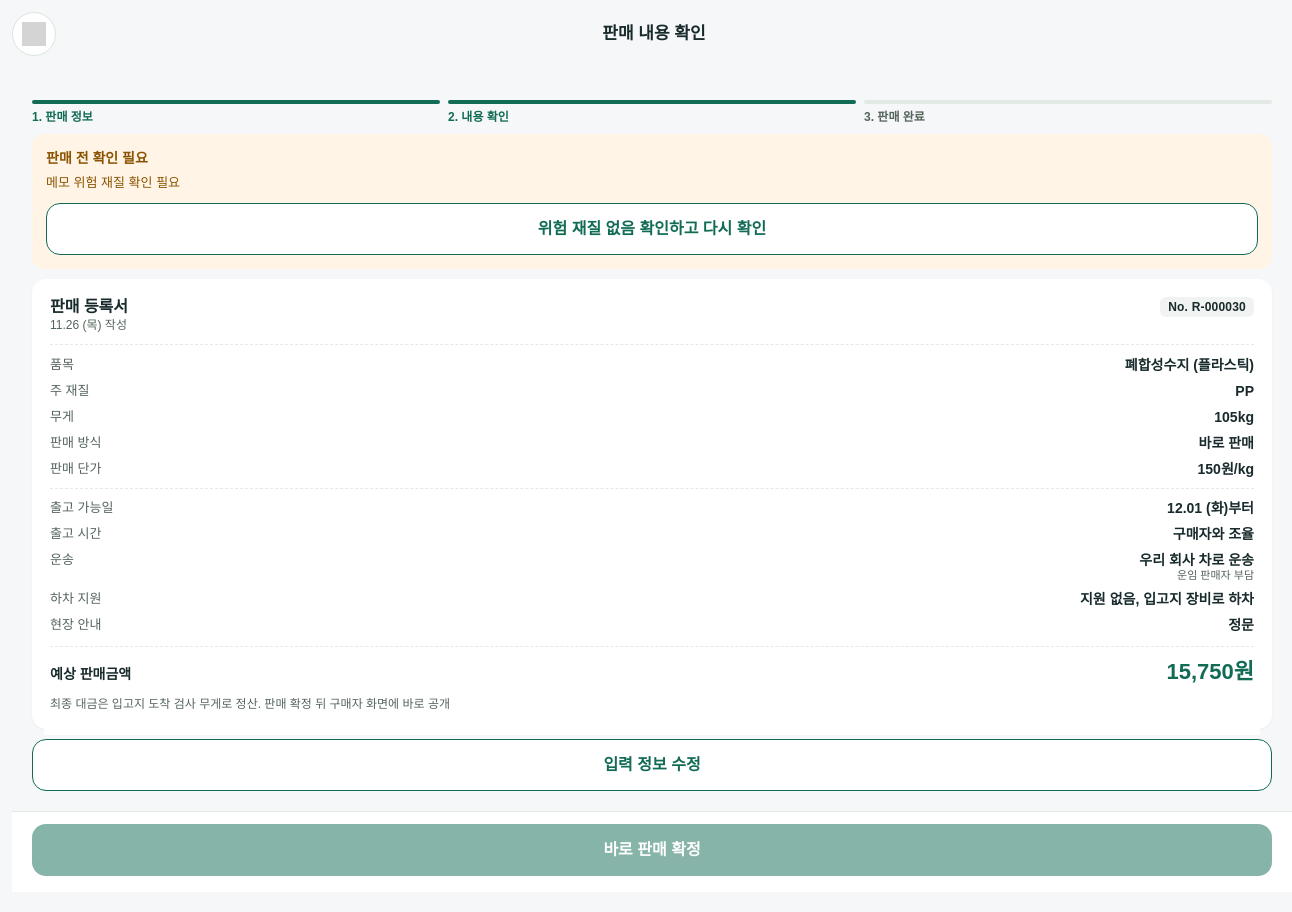
it: 보류 시 판매 차단, 위험 재질 확인 재요청 뒤 판매 확정 가능, 영수증에 QR 없음
Expected: the text "판매 전 확인 필요" is shown, x1=46 y1=150 x2=148 y2=166
Expected: the button "바로 판매 확정" is disabled, x1=32 y1=824 x2=1272 y2=876
Click the button "위험 재질 없음 확인하고 다시 확인" at (652, 229), box x1=46 y1=203 x2=1258 y2=255
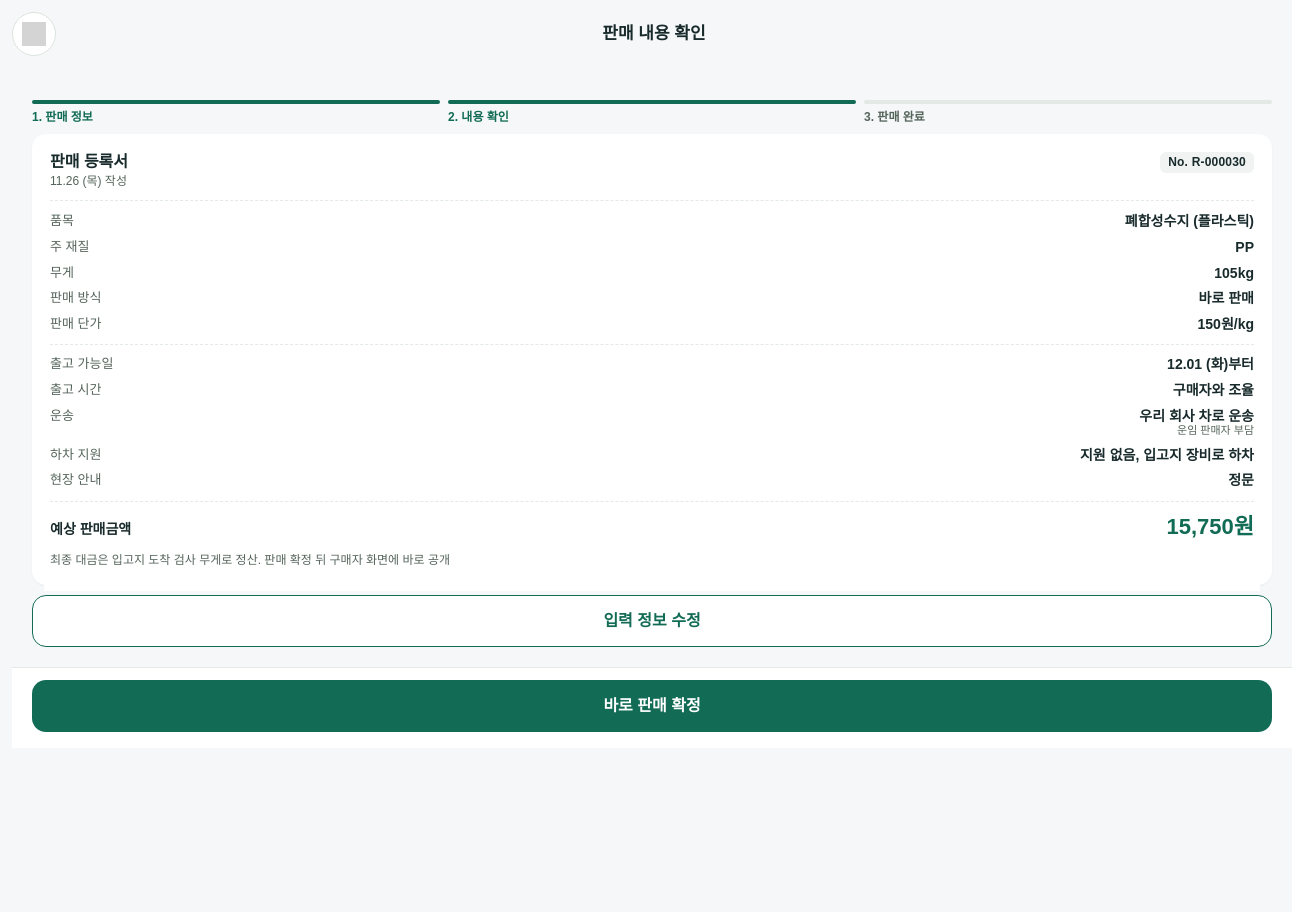
Expected: the text "No. R-000030" is shown, x1=1160 y1=152 x2=1254 y2=173
Expected: the button "바로 판매 확정" is enabled, x1=32 y1=680 x2=1272 y2=732
